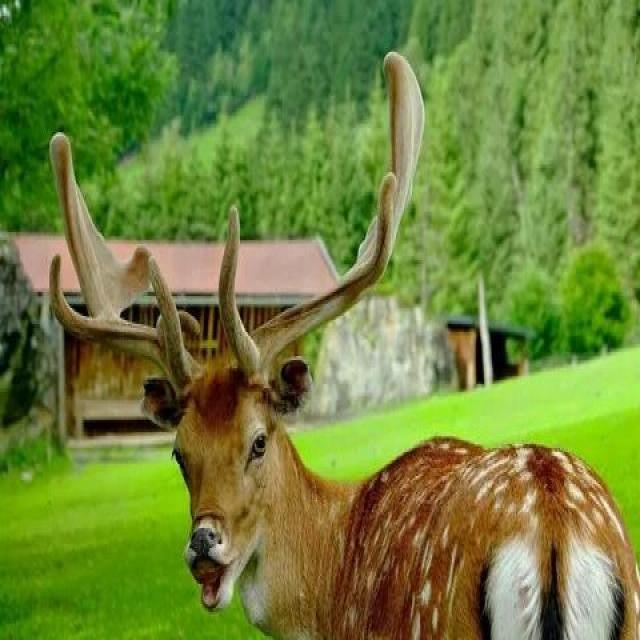deer: (69, 176, 640, 640)
